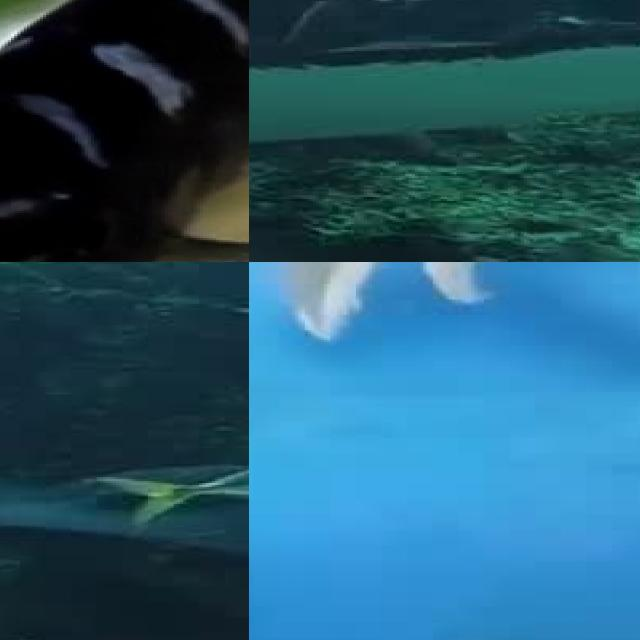fish: (0, 0, 249, 262), (90, 421, 249, 532)
